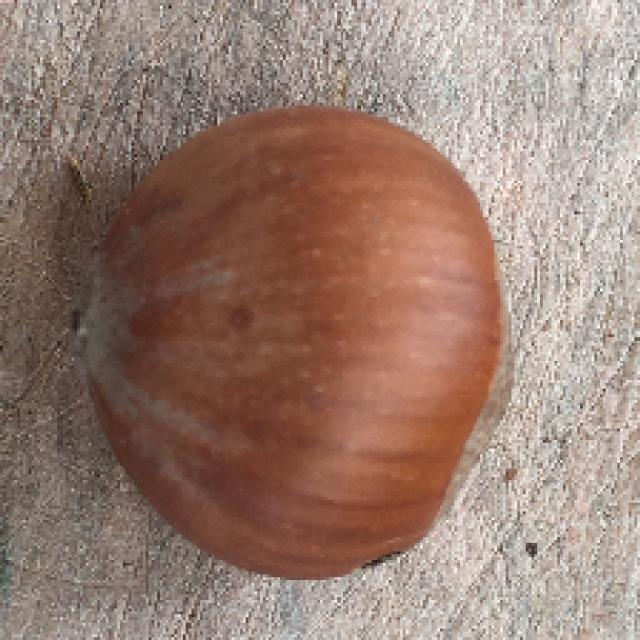DamagedHazelnut: (70, 107, 519, 586)
